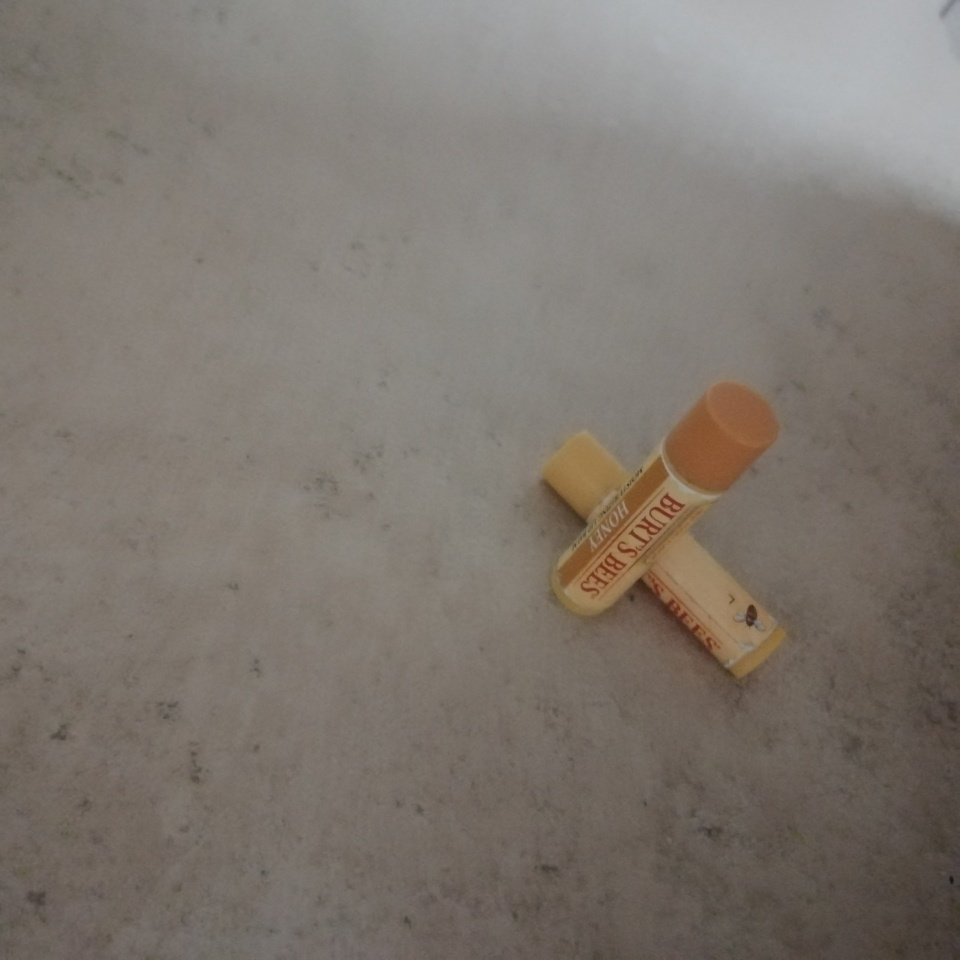chapstick: (542, 429, 788, 681), (551, 381, 781, 617)
